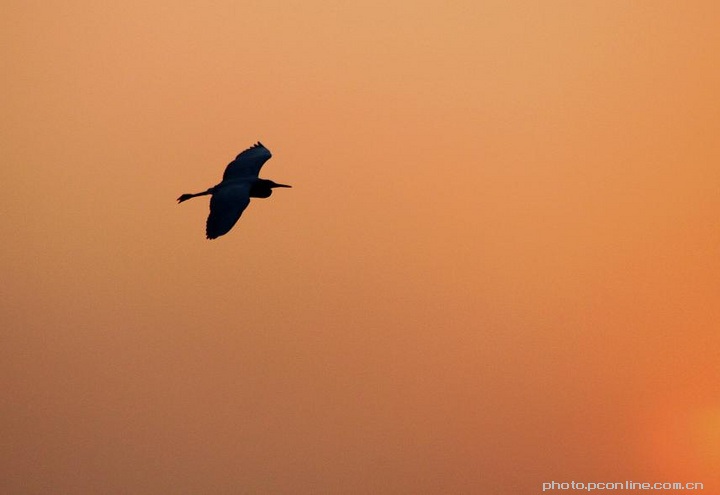bird: (176, 140, 294, 240)
